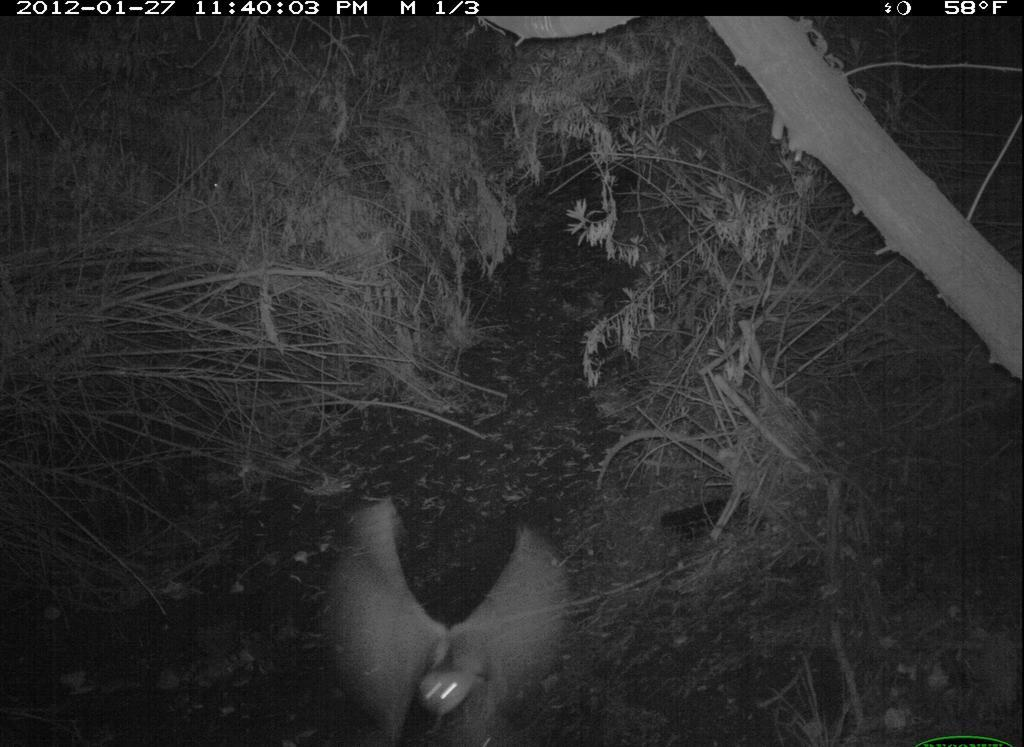bird: (318, 495, 576, 747)
